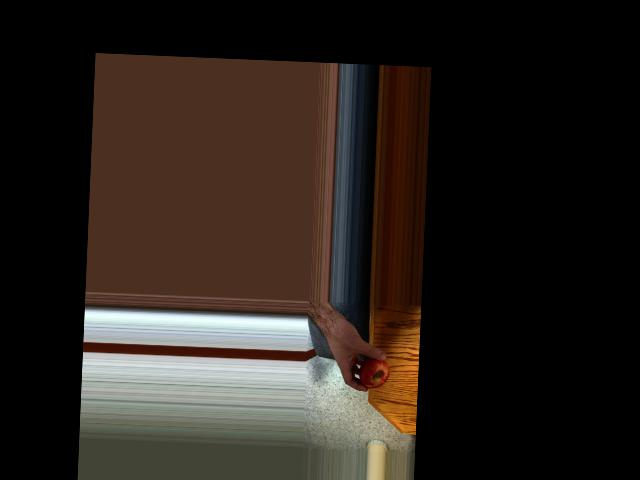apple: (355, 353, 389, 390)
